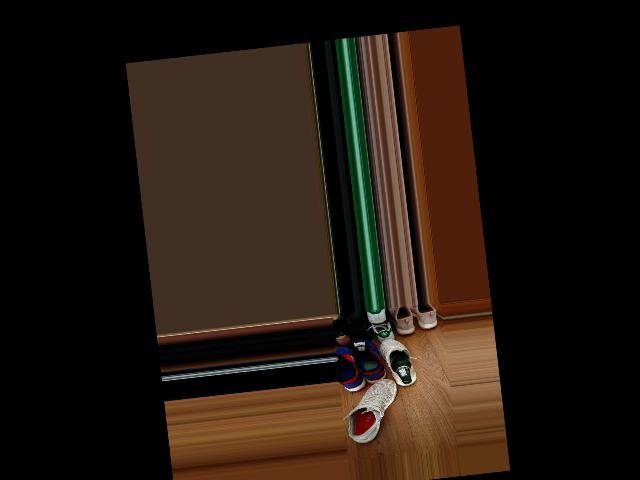beer: (389, 349, 413, 386)
